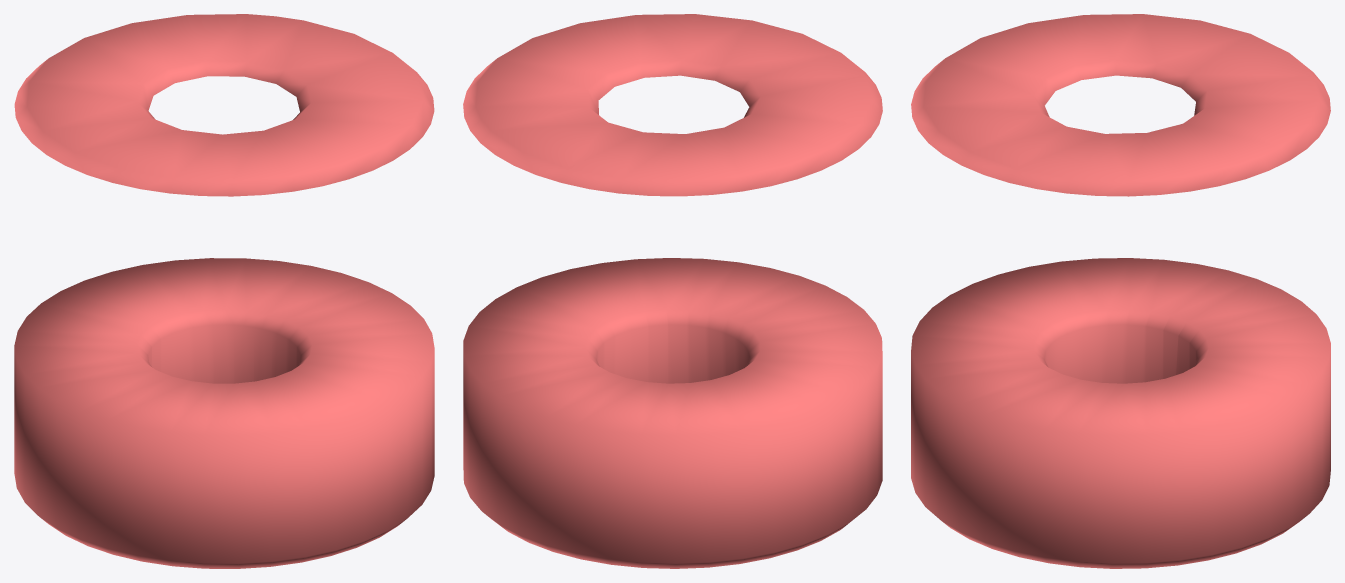
File: solo12_hip_fe_hr_13.obj
The picture shows the model from 3 angles, left to right: view 1: azimuth 30°, elevation 25°; view 2: azimuth 150°, elevation 25°; view 3: azimuth 270°, elevation 25°; orthographic projection.
Size of the model in its own units: 0.011 by 0.0112 by 0.011.
